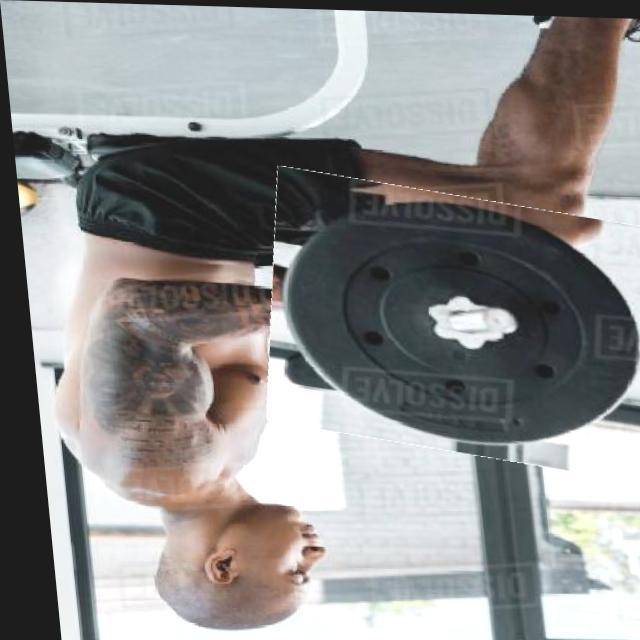barbell: (249, 176, 640, 468)
